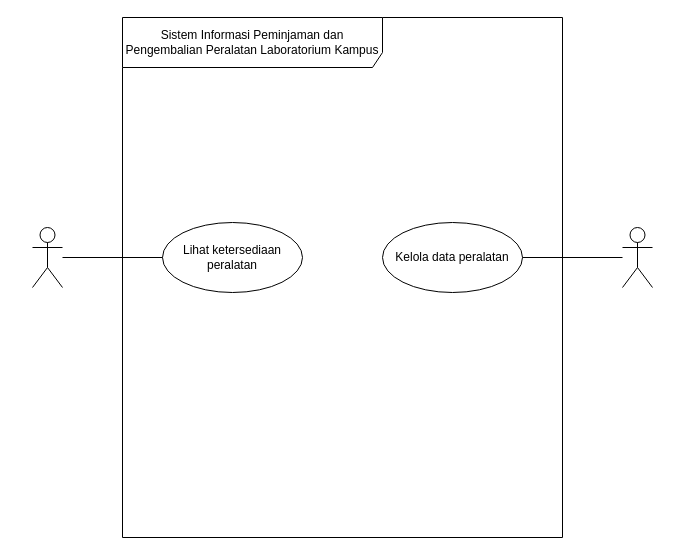
Image size: 688x555. Some labels were removed from this diagram. Each missing label, with the box of its shape:
Mahasiswa: (32, 226, 62, 288)
Petugas Lab: (622, 226, 652, 288)
